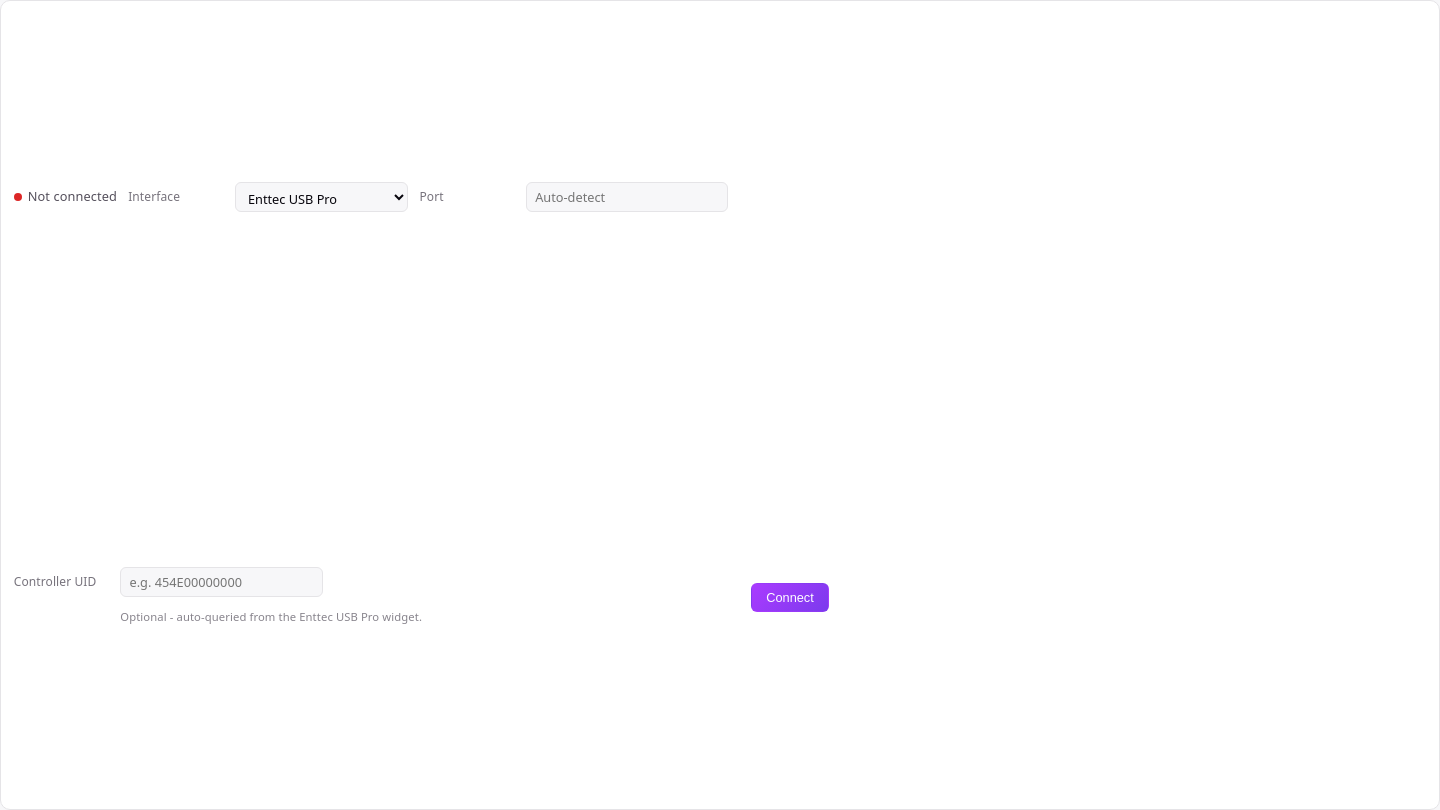
Test: NetworkPanel › disables Connect until a controller UID is entered for interfaces with no onboard UID
This screenshot has width=1440, height=810.
Select "Bare USB-RS485 (FTDI)" in the dropdown labelled "Interface" at (321, 197), box [235, 182, 408, 212]
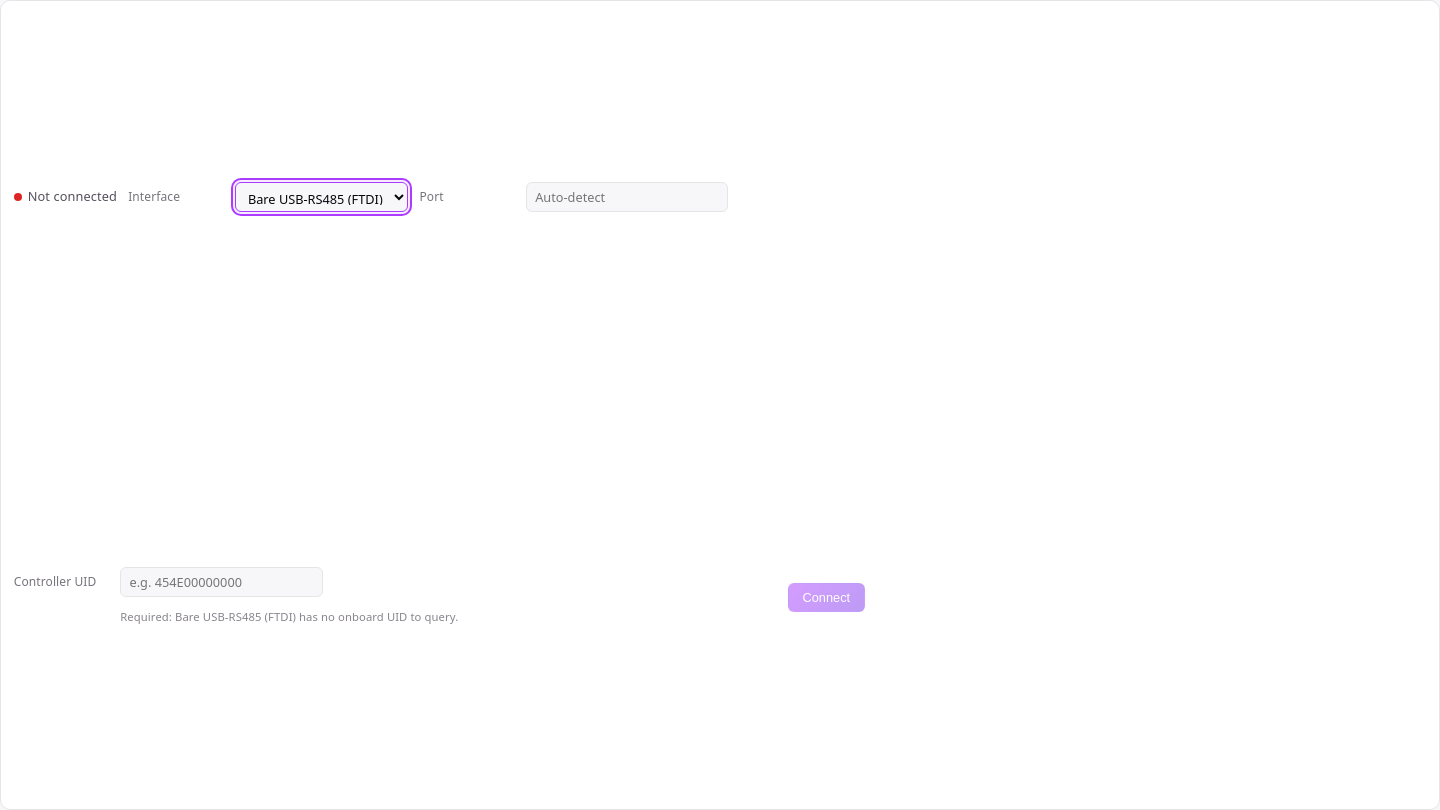
Now the button "Connect" is disabled, box [788, 583, 865, 612]
Now the text "Required: Bare USB-RS485 (FTDI) has no onboard UID to query." is shown, box [120, 609, 458, 624]
Type "454E00000000" into the field labelled "Controller UID" at (222, 582), box [120, 567, 323, 597]
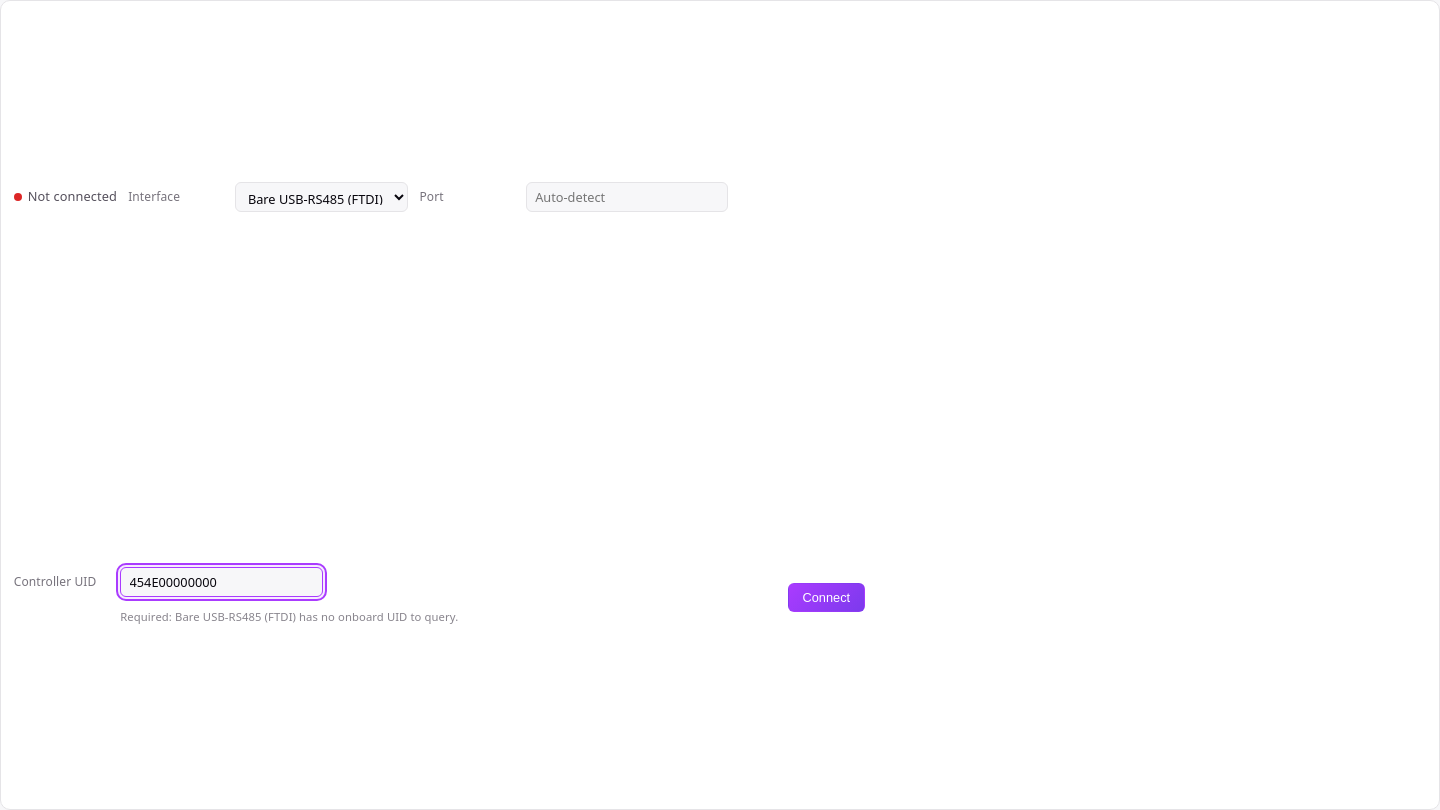
Now the button "Connect" is enabled, box [788, 583, 865, 612]
